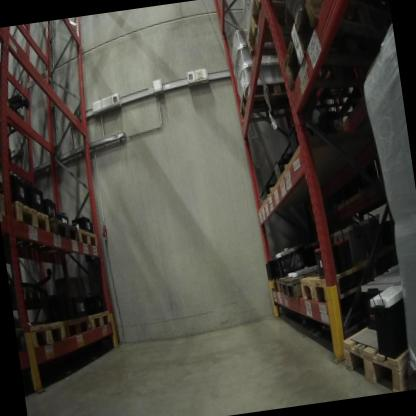pallet: (275, 0, 394, 108), (332, 302, 415, 395), (299, 252, 390, 313), (231, 72, 305, 127), (235, 0, 297, 65), (280, 257, 353, 304), (4, 189, 54, 256), (31, 212, 82, 261), (27, 307, 68, 356), (64, 311, 96, 345), (72, 220, 99, 256), (88, 305, 115, 339), (16, 316, 33, 361), (0, 184, 19, 222), (269, 269, 290, 300), (402, 351, 416, 386), (0, 28, 9, 60)
